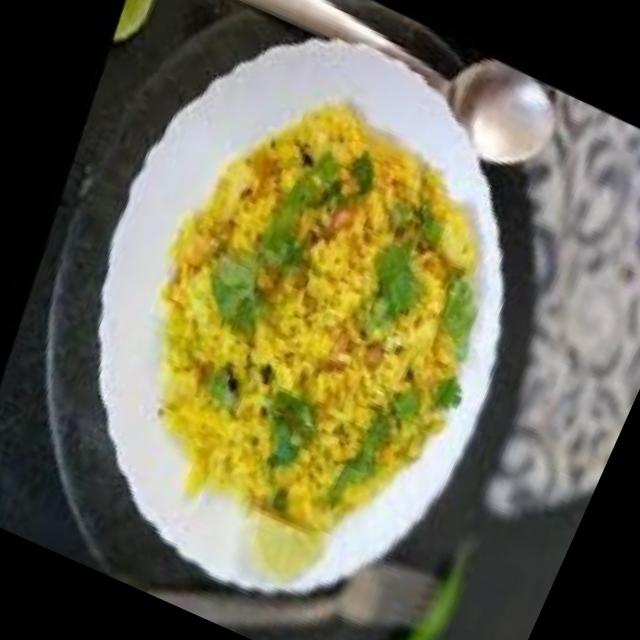poha: (56, 49, 559, 592)
